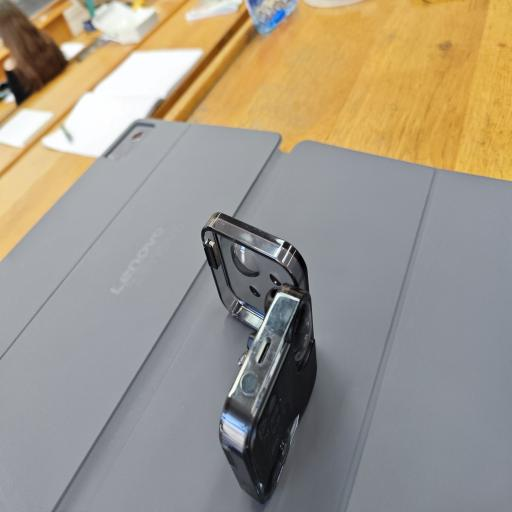CASTI: (197, 210, 320, 506)
